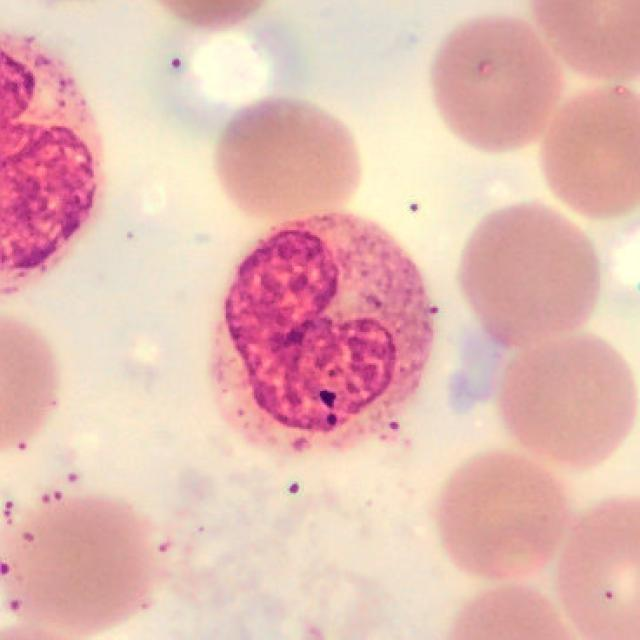Metamielocito: (212, 213, 437, 455)
